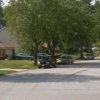Tree: (8, 0, 95, 57)
